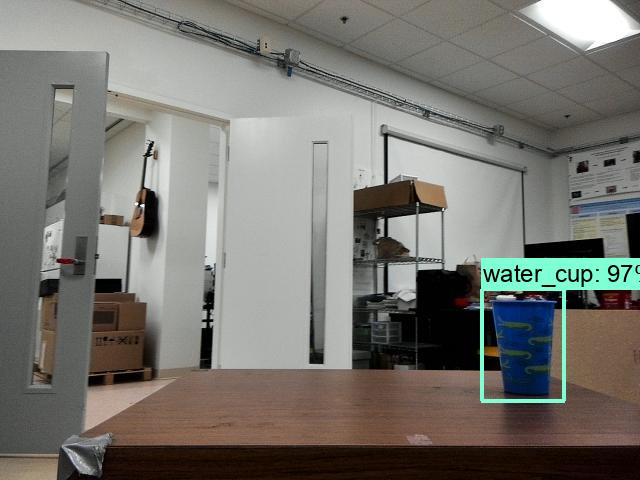water_cup: (482, 286, 565, 400)
